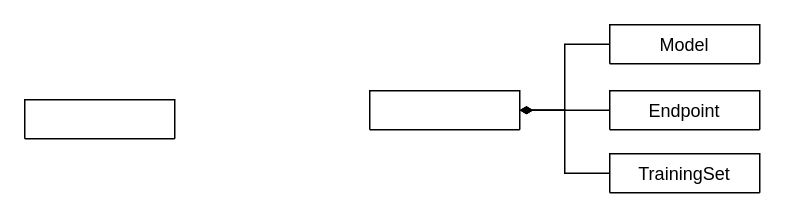
The diagram is 785 pixels wide and 218 high, and some of its shapes have lost their labels. Each missing label, with the centre of its shape:
"Deployment" belongs at pixel 444 109.
"MLPipeline" belongs at pixel 99 118.
